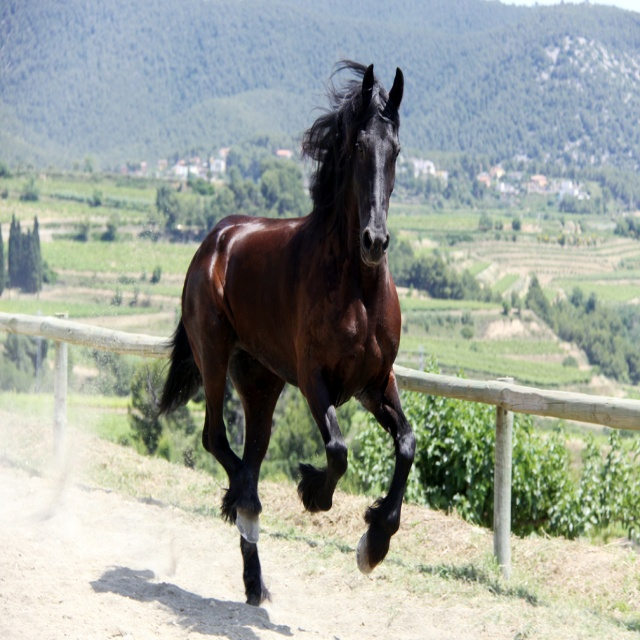Horse: (156, 55, 416, 608)
